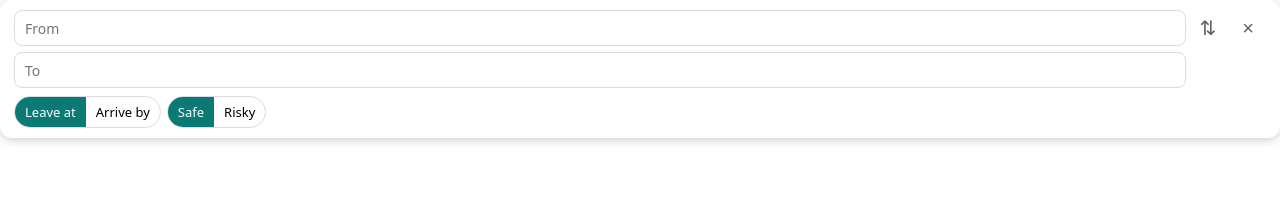
TripSearch › a location fix that arrives late › does not overwrite what was edited meanwhile
The image size is (1280, 210).
Click the field labelled "From". click: (600, 28)
box: [14,10,1186,46]
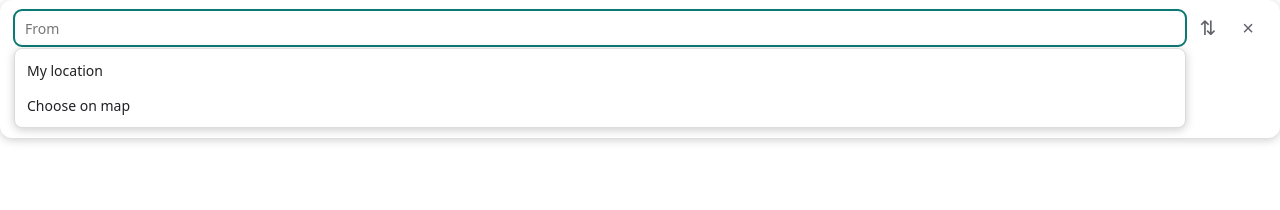
Click the option "My location". click: (65, 70)
box: [27,61,103,80]
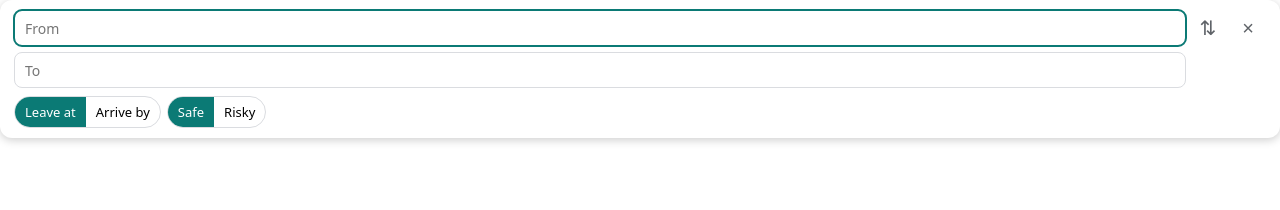
Click the button "Arrive by". click: (123, 112)
box: [86,97,160,127]
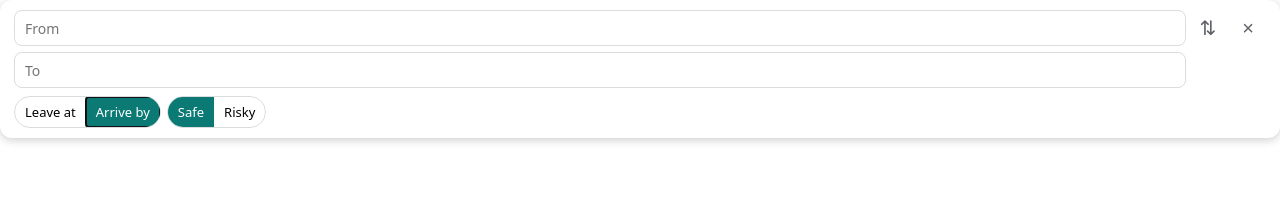
Type "kongres" into the field labelled "To". click: (600, 70)
box: [14,52,1186,88]
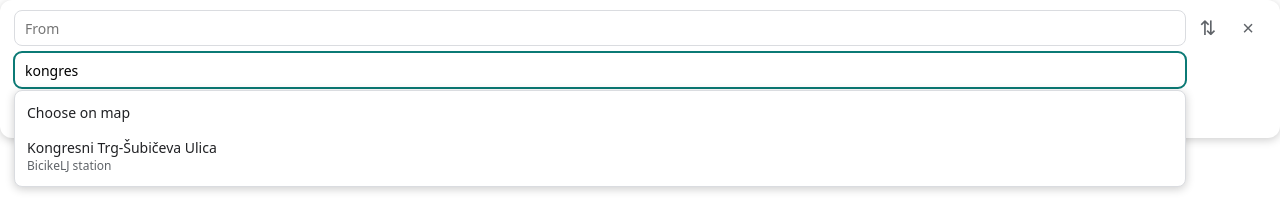
Click the option "Kongresni Trg-Šubičeva Ulica BicikeLJ station". click: (122, 156)
box: [27,138,217,174]
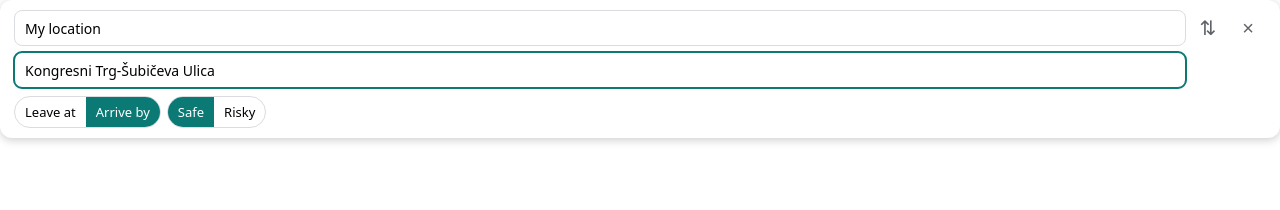
Check: the field named "From" holds "My location", box [14,10,1186,46]
Check: the field named "To" holds "Kongresni Trg-Šubičeva Ulica", box [14,52,1186,88]
